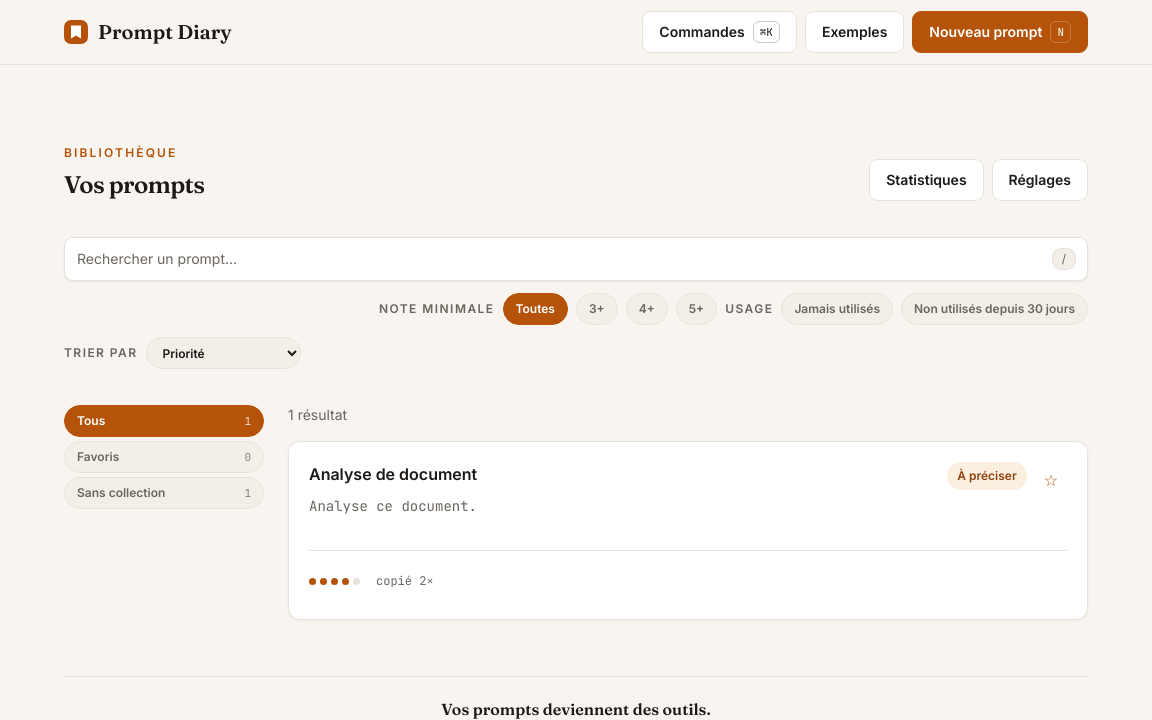
Test: Prompt Diary prompt library › shows relative usage dates in the prompt detail
Expected: the heading "Analyse de document" is shown, 309,464 -> 477,484
Click the button named "Ouvrir Analyse de document" at {"x": 688, "y": 530}, box 289,442 -> 1087,619
(page scrolled)
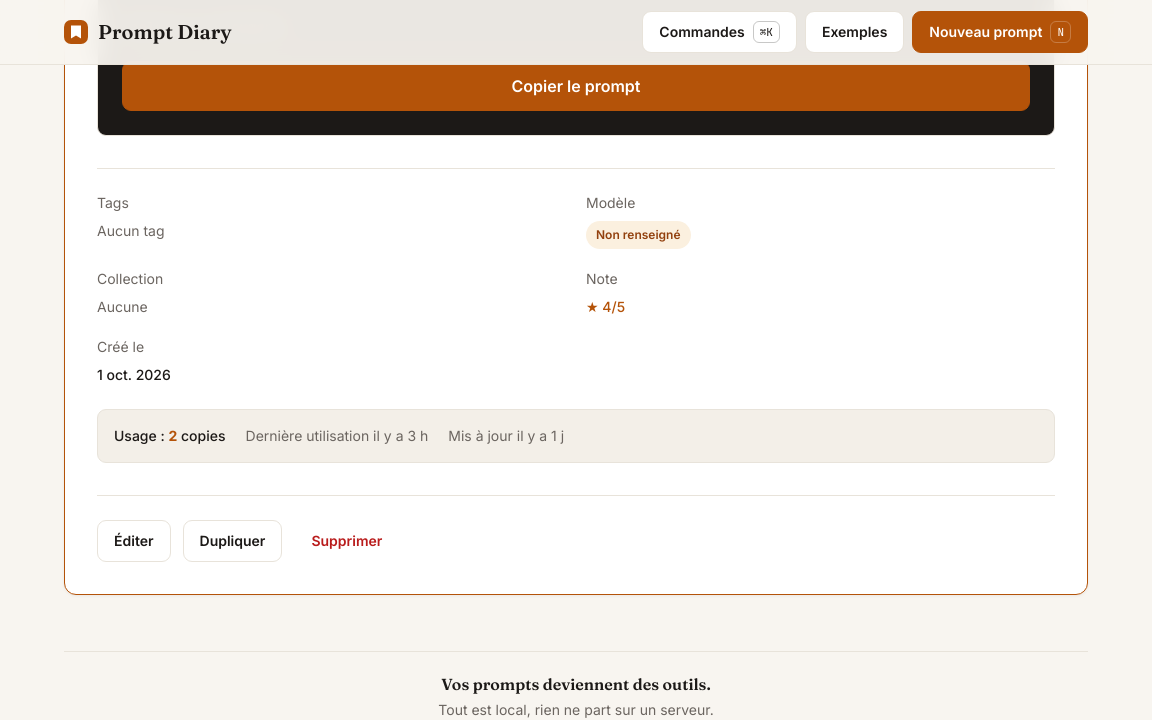
Result: the text "il y a 3 h" is shown at 373,427 -> 428,444
Result: the text "il y a 1 j" is shown at 517,427 -> 564,444
